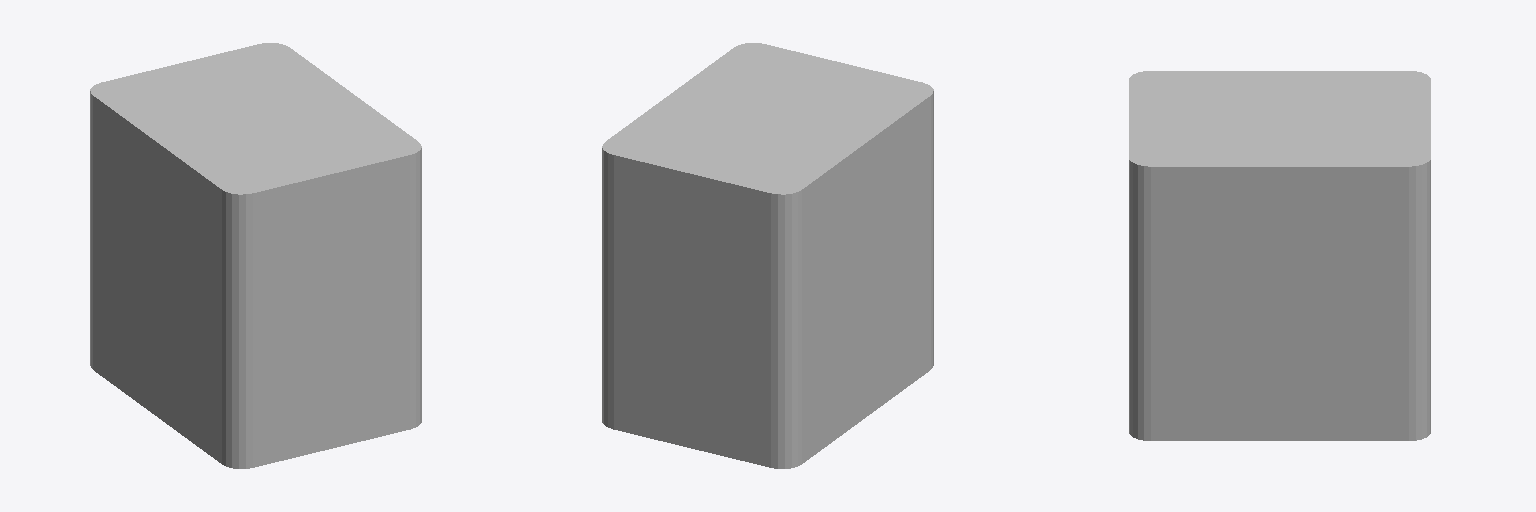
File: deck.obj
3 views of the same model, side by side, from view 1: azimuth 30°, elevation 25°; view 2: azimuth 150°, elevation 25°; view 3: azimuth 270°, elevation 25° (orthographic).
Parts seen in each view (by area): view 1: Deck; view 2: Deck; view 3: Deck.
Part boxes in pixels (left/top/right/bottom): Deck: left=90, top=43, right=421, bottom=468; Deck: left=602, top=43, right=933, bottom=468; Deck: left=1129, top=71, right=1430, bottom=440.
Size of the model in its own units: 0.75 by 1 by 1.